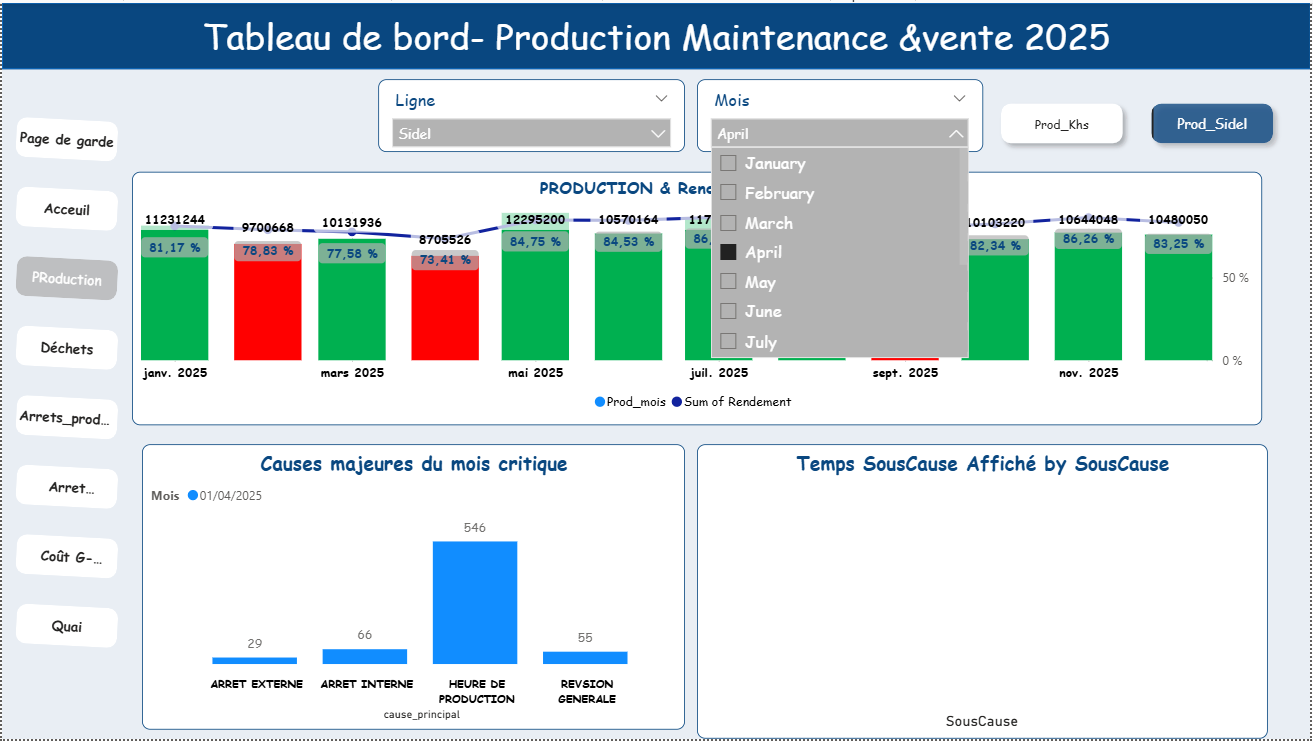

What the dashboard file says about the page in this screenshot:
{"tool":"powerbi","page":{"name":"PRoduction","canvas":[1280,720],"ordinal":2},"visuals":[{"type":"lineClusteredColumnComboChart","title":"PRODUCTION & Rendement  PAR MOIS","fields":{"Category":["S_K_25 - Fait de prodution (2).Date .Variation.Date Hierarchy.Month"],"Y":["S_K_25 - Fait de prodution (2).Prod_mois"],"Y2":["Sum(S_K_25 - Fait de prodution (2).Rendement )"]},"box":[127.4,165.5,1106,247.6],"z":1000},{"type":"clusteredColumnChart","title":"Causes majeures du mois critique","fields":{"Category":["SK_fait cause xlsx - Arret_cause.cause_principal"],"Series":["SK_fait cause xlsx - Arret_cause.Mois"],"Y":["SK_fait cause xlsx - Arret_cause.Afficher Causes"]},"box":[137,432.1,530.9,279],"z":2000},{"type":"clusteredColumnChart","fields":{"Category":["SK_fait cause xlsx - Souscause.SousCause"],"Y":["SK_fait cause xlsx - Souscause.Temps SousCause Affiché"]},"box":[680.2,432.1,558,287.7],"z":3000},{"type":"pageNavigator","box":[0,110.7,127.4,525],"z":4000},{"type":"bookmarkNavigator","box":[379.8,89.3,873.8,57.1],"z":6000},{"type":"shape","box":[0,0,1280.3,64.8],"z":7000},{"type":"slicer","fields":{"Values":["Calendrier_1.Mois"]},"box":[679.8,75,279.8,71.4],"z":8000},{"type":"slicer","fields":{"Values":["SK_fait cause xlsx - Arret_cause.Ligne"]},"box":[367.9,75,300,71.4],"z":9000}]}

Visuals, with their boxes on the page's 1280x720 design canvas (x1, y1, x2, y2). These are canvas units, not pixel positions in the 1313x741 screenshot, which may show the page scaled, cropped or inside an application window:
"PRODUCTION & Rendement  PAR MOIS" lineClusteredColumnComboChart: 127 166 1233 413
"Causes majeures du mois critique" clusteredColumnChart: 137 432 668 711
clusteredColumnChart - SK_fait cause xlsx - Souscause.SousCause x SK_fait cause xlsx - Souscause.Temps SousCause Affiché: 680 432 1238 720
pageNavigator: 0 111 127 636
bookmarkNavigator: 380 89 1254 146
shape: 0 0 1280 65
slicer - Calendrier_1.Mois: 680 75 960 146
slicer - SK_fait cause xlsx - Arret_cause.Ligne: 368 75 668 146
